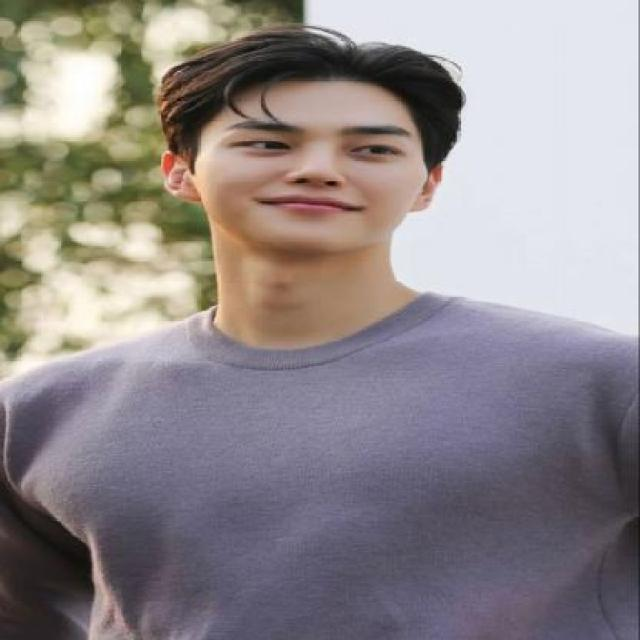sem_oculos: (174, 111, 420, 176)
